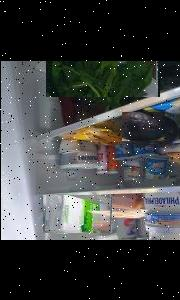Aguacate: (121, 111, 164, 140)
Leche: (43, 194, 111, 232)
Salchichas: (40, 220, 106, 240)
Yogur: (141, 155, 169, 179), (124, 158, 142, 180)
